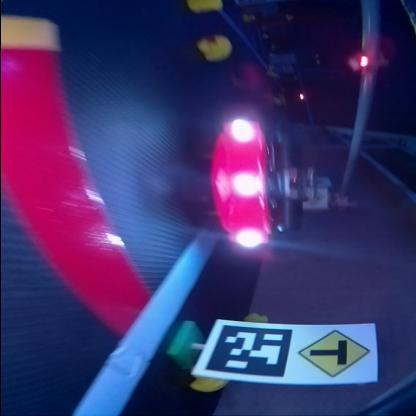Duckie: (200, 34, 230, 60), (189, 376, 228, 392), (188, 0, 222, 10), (244, 312, 270, 321)
Duckiebot: (195, 118, 309, 248)
Intersection sign: (297, 330, 370, 375)
QR code: (203, 324, 293, 374)
Traffic light: (347, 50, 385, 74)
